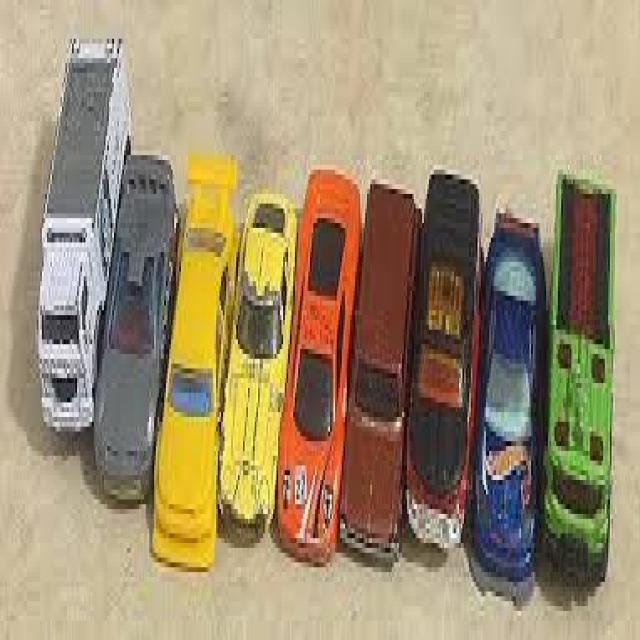vehicle: (536, 72, 640, 640), (283, 56, 349, 640), (476, 91, 540, 640), (163, 41, 220, 632), (40, 0, 103, 506), (226, 77, 281, 640), (355, 56, 404, 640), (426, 44, 474, 640), (106, 96, 157, 556)
